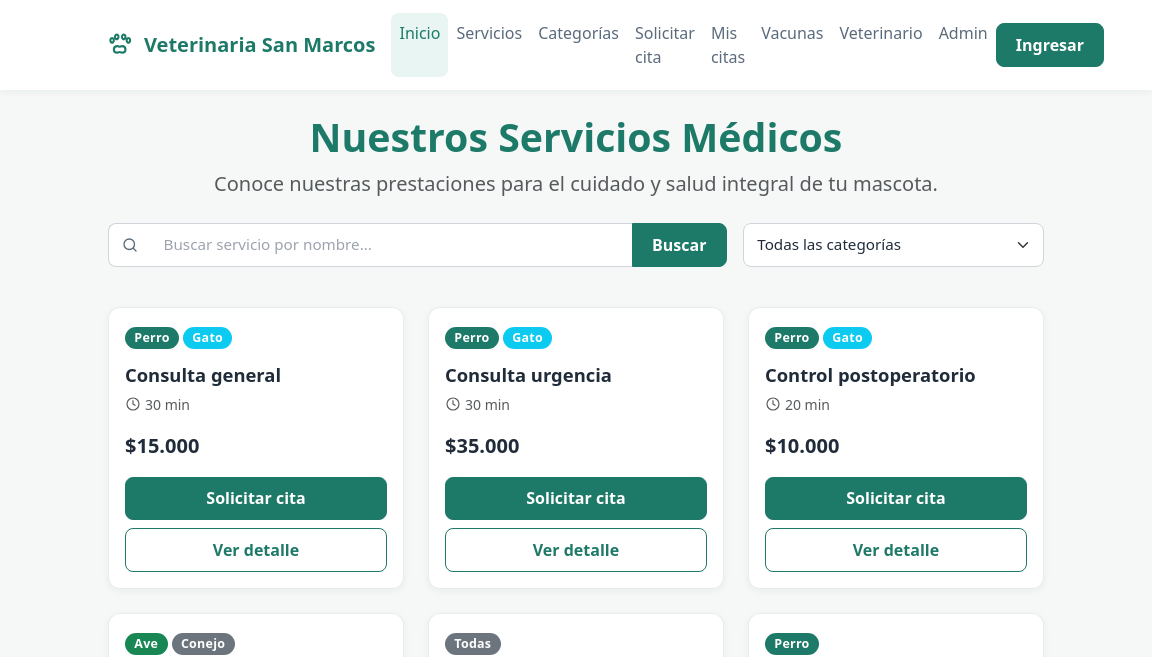
it: Página Servicios › filtra por categoría
Select "Cirugía" in the dropdown at (893, 245), box [743,223,1044,267]
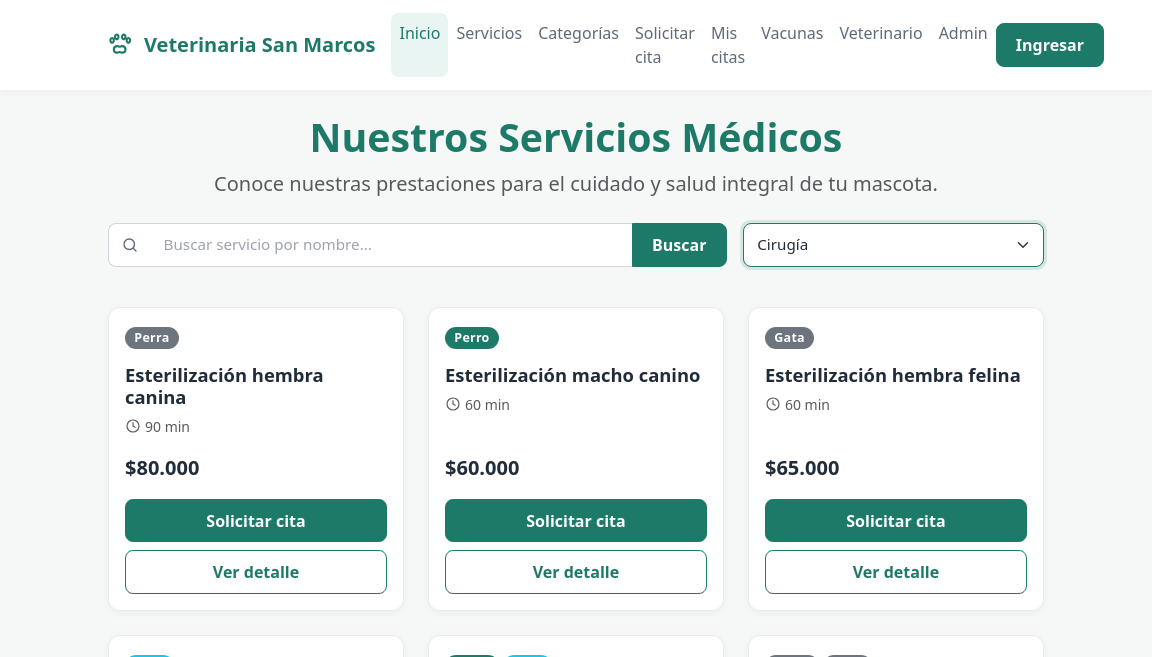
Check: the number of buttons "Solicitar cita" is 6
